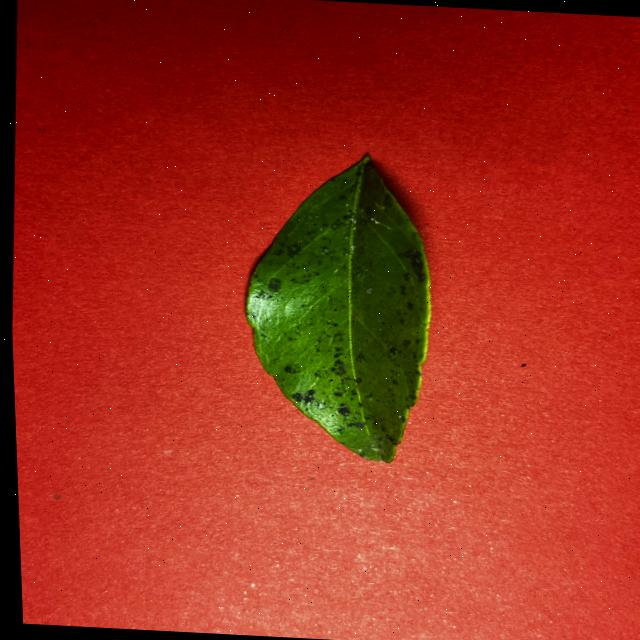sooty_mold: (245, 155, 429, 461)
